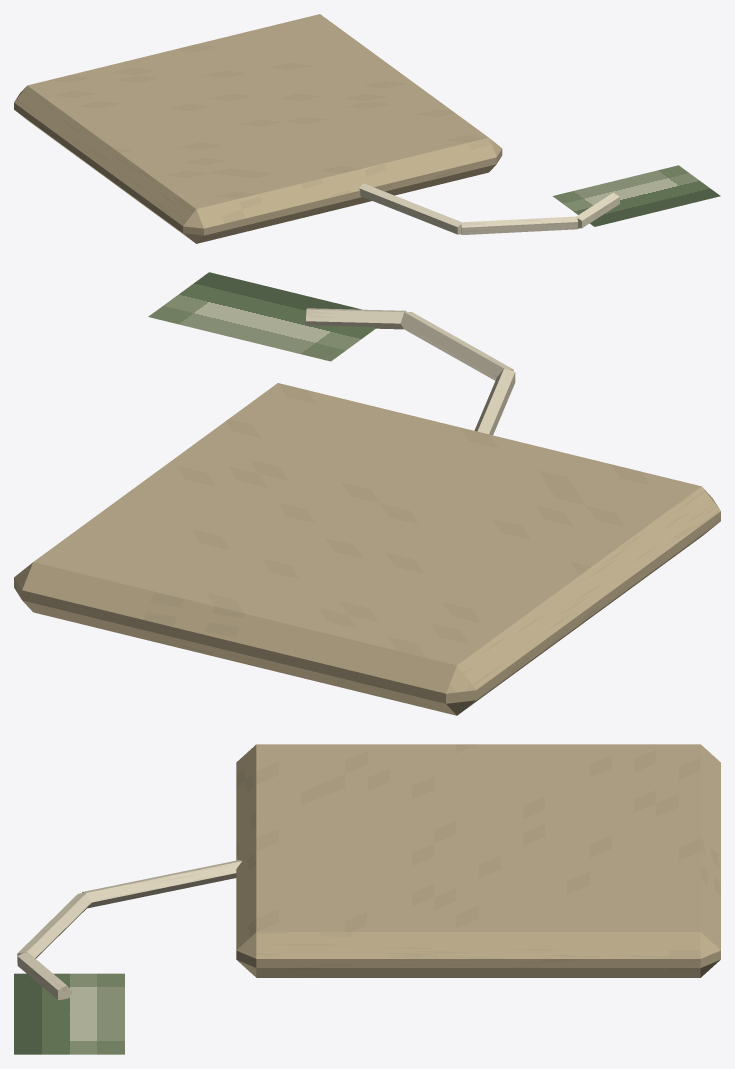
The model's file is tea_bag.glb.
3 views of the same model, one above another, from view 1: azimuth 30°, elevation 25°; view 2: azimuth 150°, elevation 25°; view 3: azimuth 270°, elevation 25° (orthographic). The views are drawn at different scales.
Visible parts, largest first — view 1: block_paper tea pouch, block_paper tag, block_loose string 1, block_loose string 0, block_loose string 2; view 2: block_paper tea pouch, block_paper tag, block_loose string 1, block_loose string 2, block_loose string 0; view 3: block_paper tea pouch, block_paper tag, block_loose string 0, block_loose string 1, block_loose string 2.
Part boxes in pixels (x1,y1,x2,y2): block_paper tea pouch: [14, 14, 502, 243]; block_paper tag: [552, 165, 720, 226]; block_loose string 1: [461, 216, 577, 234]; block_loose string 0: [359, 183, 462, 234]; block_loose string 2: [576, 192, 619, 228]; block_paper tea pouch: [14, 383, 720, 715]; block_paper tag: [148, 272, 377, 361]; block_loose string 1: [400, 311, 513, 380]; block_loose string 2: [306, 308, 406, 329]; block_loose string 0: [474, 368, 515, 435]; block_paper tea pouch: [236, 744, 720, 977]; block_paper tag: [14, 973, 124, 1054]; block_loose string 0: [82, 860, 241, 908]; block_loose string 1: [17, 893, 91, 962]; block_loose string 2: [17, 951, 72, 999].
Bounding box in the file's own units: 0.067 × 0.005 × 0.07.
1 material, 1 textured.
